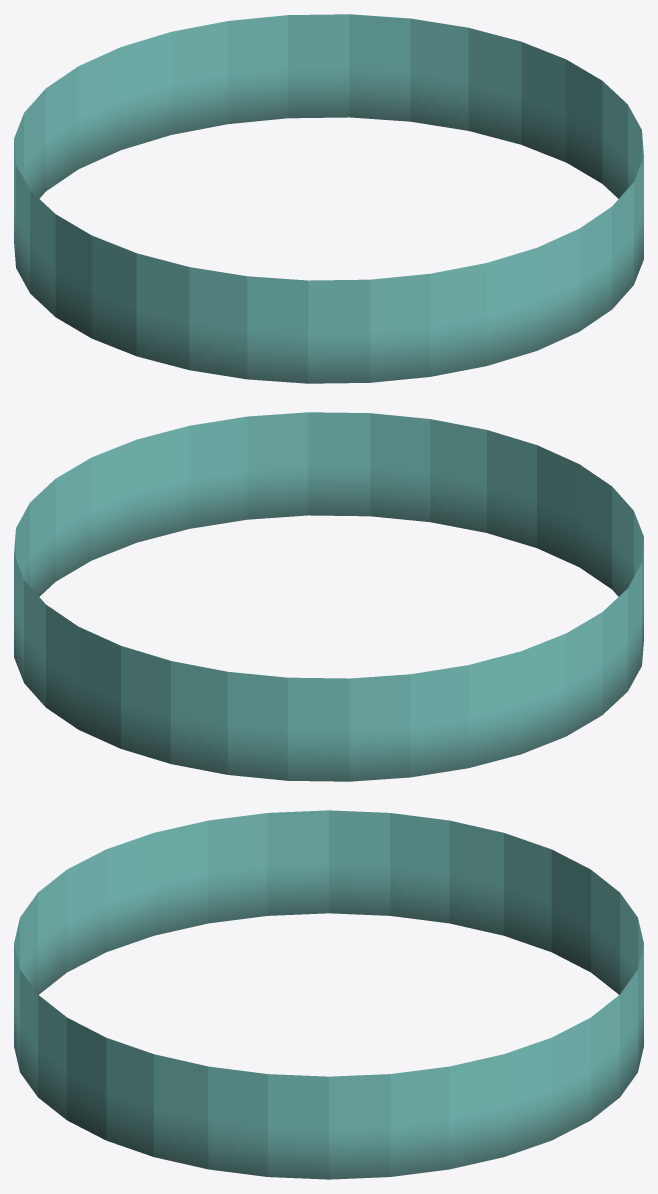
Rendered from Walls03.glb.
The picture shows the model from 3 angles, top to bottom: view 1: azimuth 30°, elevation 25°; view 2: azimuth 150°, elevation 25°; view 3: azimuth 270°, elevation 25°; orthographic projection.
Visible parts, largest first — view 1: Walls03; view 2: Walls03; view 3: Walls03.
Part boxes in pixels (bbox=[...]): Walls03: bbox=[14, 14, 643, 383]; Walls03: bbox=[14, 412, 643, 781]; Walls03: bbox=[14, 810, 643, 1179].
Size of what is drawn, in the model's own units: 60 by 10.82 by 60.
1 material, 1 textured.
